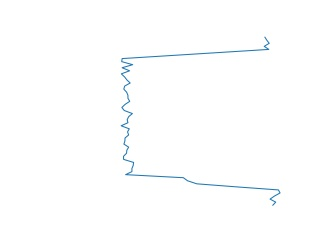distributaryChannelFill: (113, 37, 283, 205)
